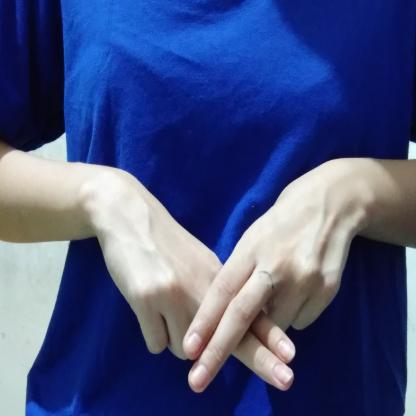father: (67, 150, 390, 407)
